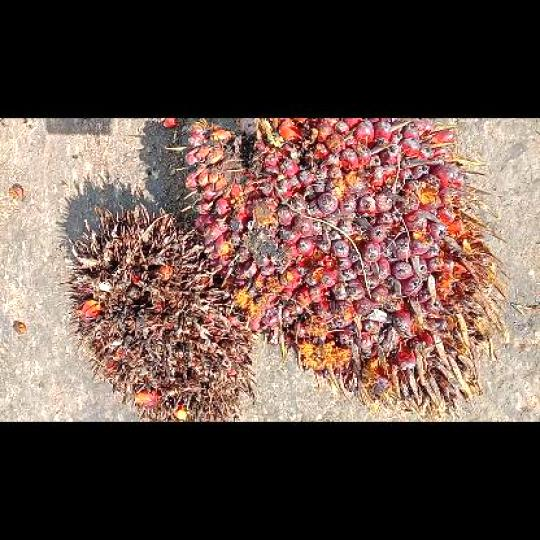masak: (166, 117, 509, 420)
terlalu masak: (59, 202, 258, 420)
